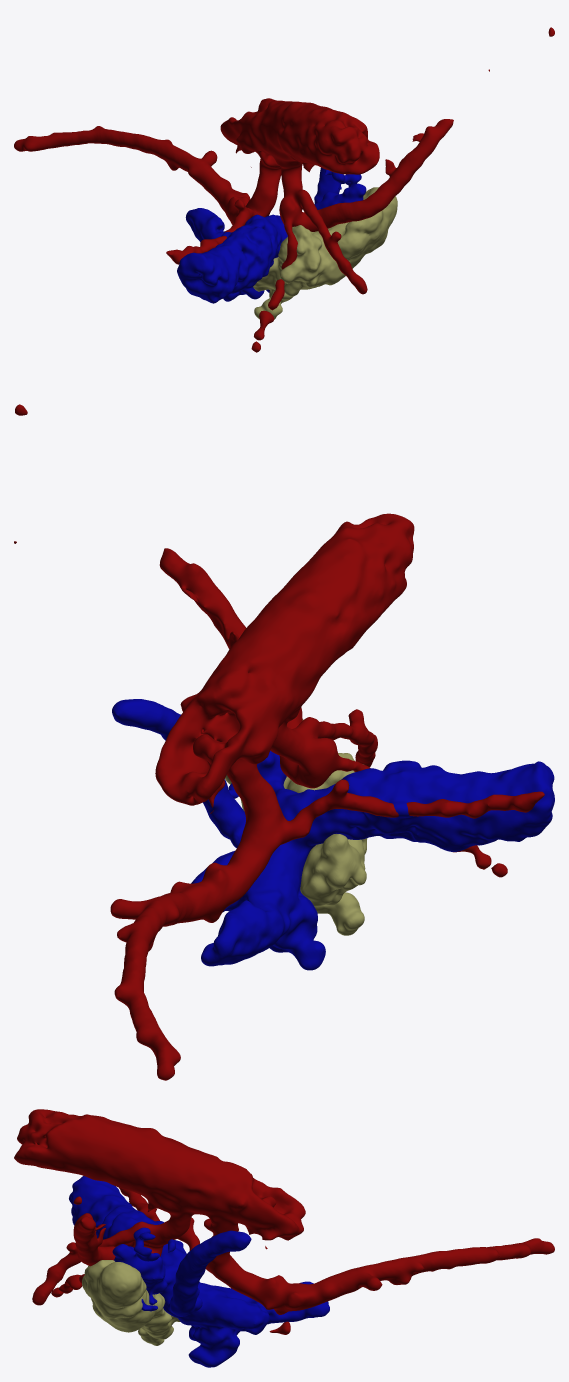
The picture shows the model from 3 angles, top to bottom: view 1: azimuth 30°, elevation 25°; view 2: azimuth 150°, elevation 25°; view 3: azimuth 270°, elevation 25°; orthographic projection. The views are drawn at different scales.
Parts seen in each view (by area): view 1: grp213095, grp284985, grp1; view 2: grp213095, grp284985, grp1; view 3: grp213095, grp284985, grp1.
Part boxes in pixels (left/top/right/bottom): grp213095: left=14, top=27, right=554, bottom=352; grp284985: left=177, top=167, right=366, bottom=303; grp1: left=253, top=187, right=397, bottom=319; grp213095: left=14, top=404, right=544, bottom=1080; grp284985: left=112, top=699, right=554, bottom=970; grp1: left=225, top=719, right=367, bottom=935; grp213095: left=14, top=1109, right=554, bottom=1334; grp284985: left=69, top=1176, right=329, bottom=1367; grp1: left=82, top=1260, right=180, bottom=1345.
Size of the model in its own units: 0.1703 by 0.1241 by 0.2021.
